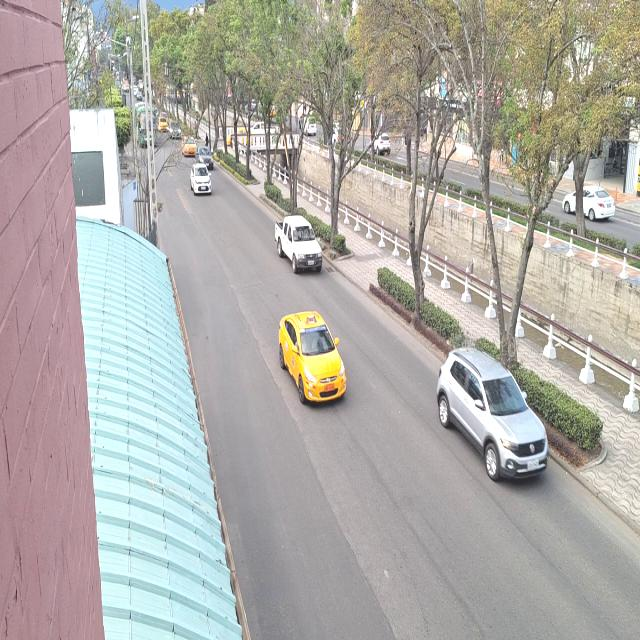CMT: (274, 213, 322, 270)
SED: (276, 313, 346, 408), (188, 160, 214, 199)
SUV: (438, 348, 550, 483)
